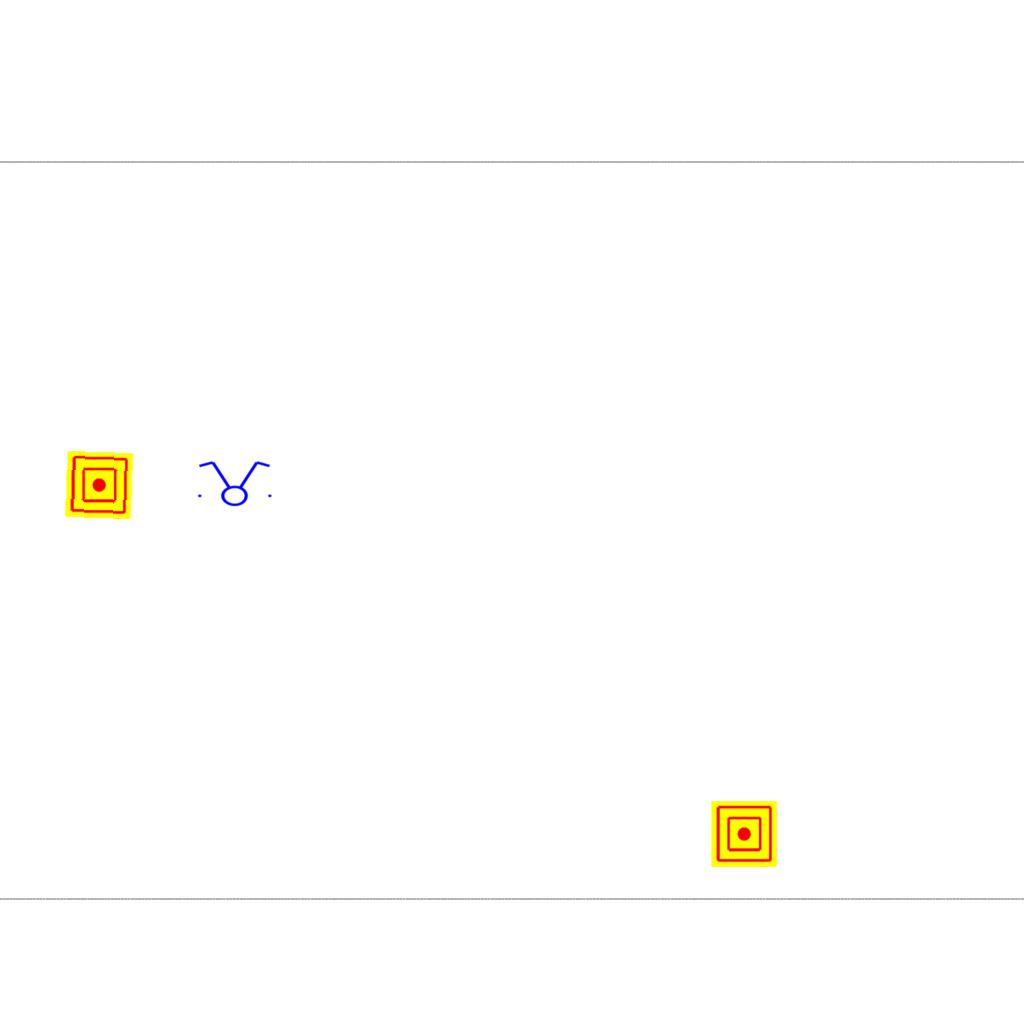NAM-Nichtautomatischer_Melder: (64, 450, 134, 520), (711, 801, 777, 867)
Serienschalter: (192, 459, 276, 507)
